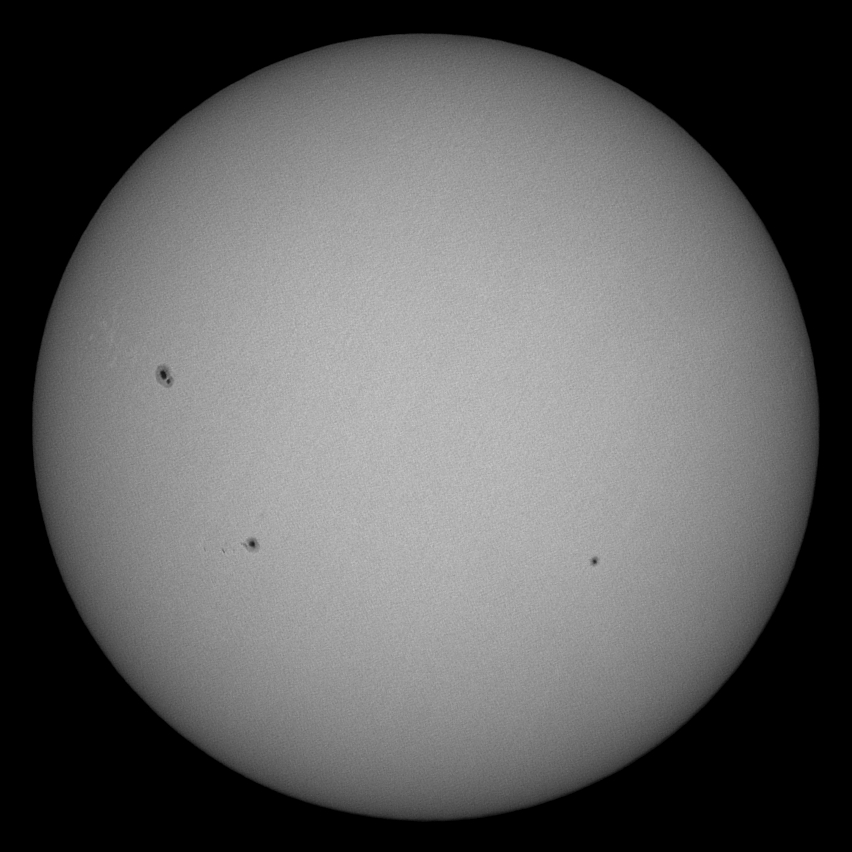sunspot: (151, 363, 177, 390), (242, 533, 263, 555), (585, 552, 606, 568)
